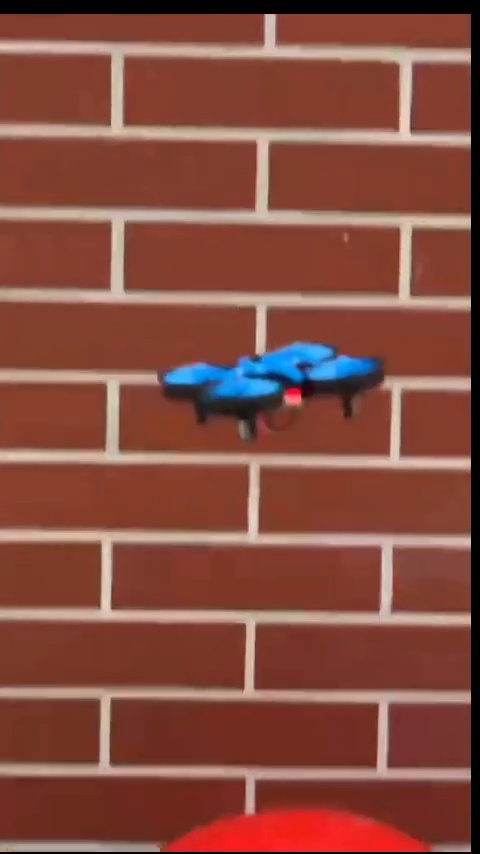drone: (160, 343, 390, 443)
